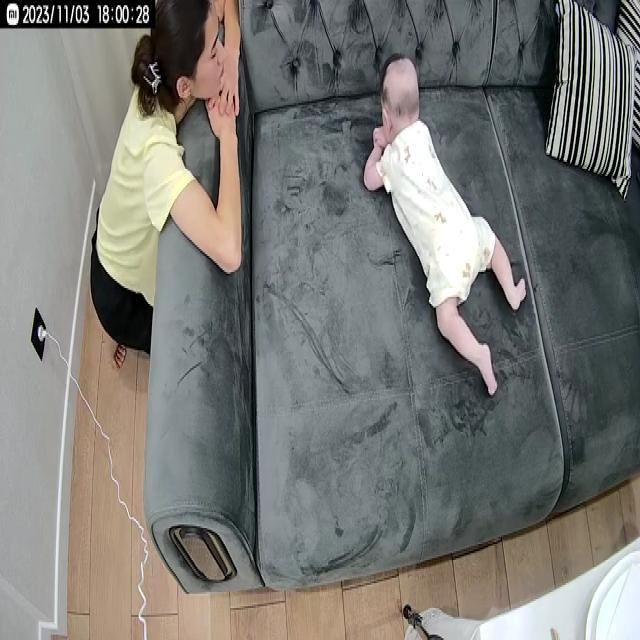baby: (359, 52, 527, 400)
